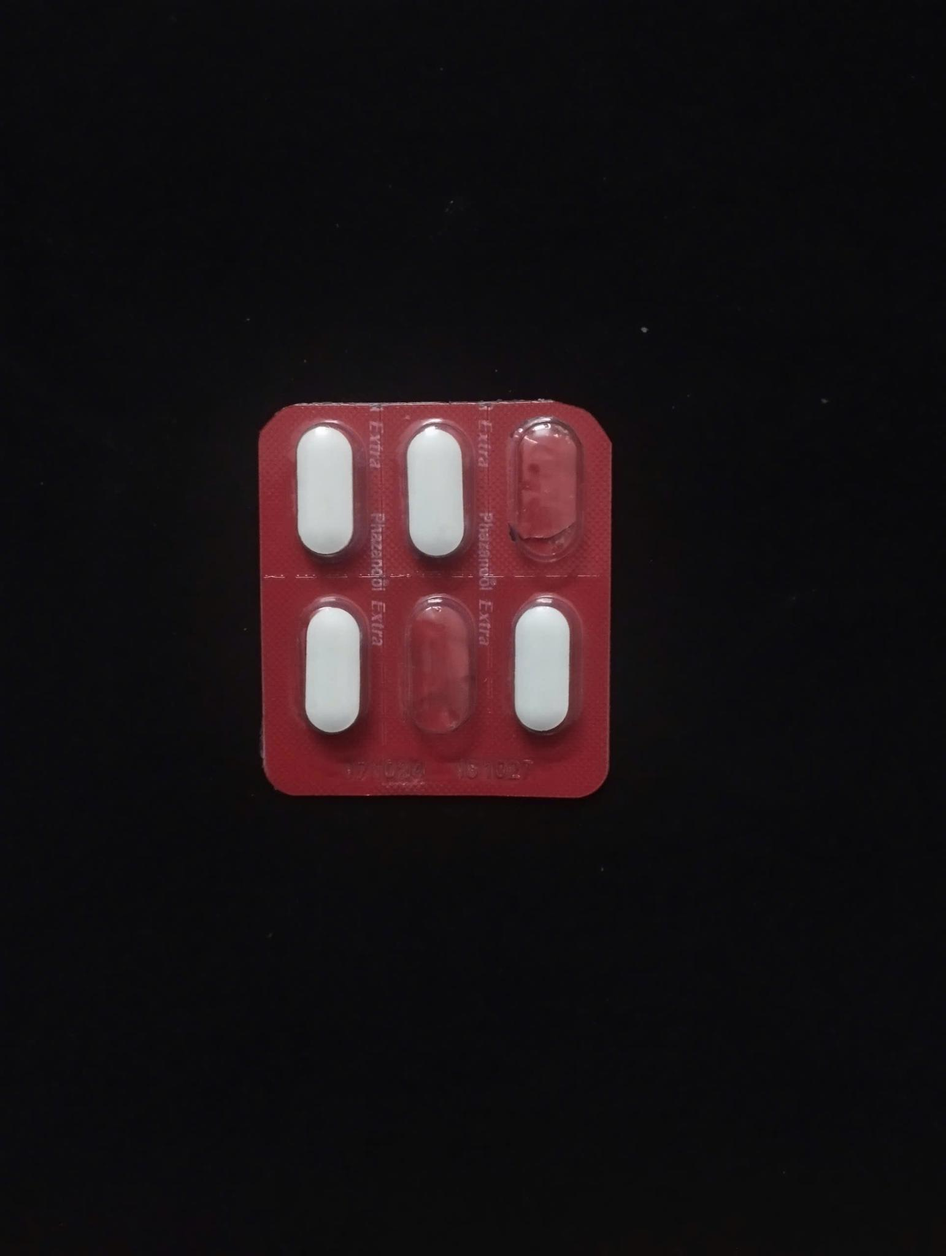Empty: (510, 408, 581, 559), (402, 602, 477, 741)
Full: (292, 597, 373, 738), (393, 418, 469, 567), (287, 423, 363, 565), (513, 594, 581, 740)
